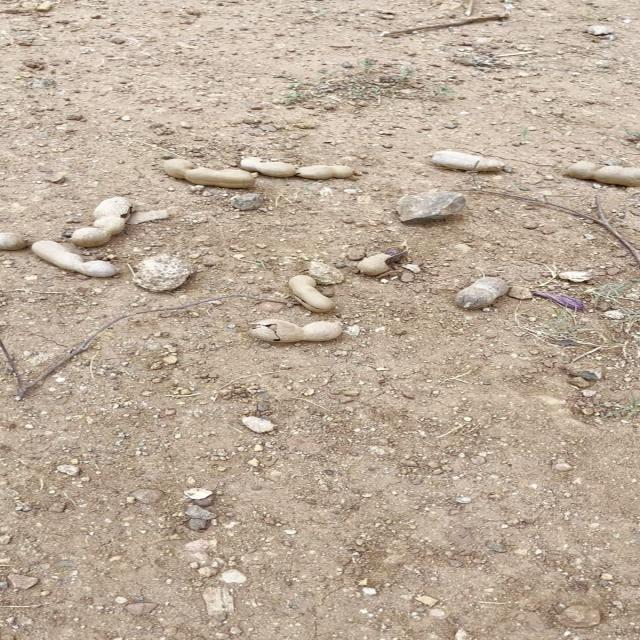tamarind: (154, 154, 256, 190), (26, 236, 114, 276), (232, 318, 356, 342), (72, 192, 127, 246), (236, 156, 372, 174), (424, 147, 512, 174), (283, 274, 343, 312), (457, 273, 506, 313)
